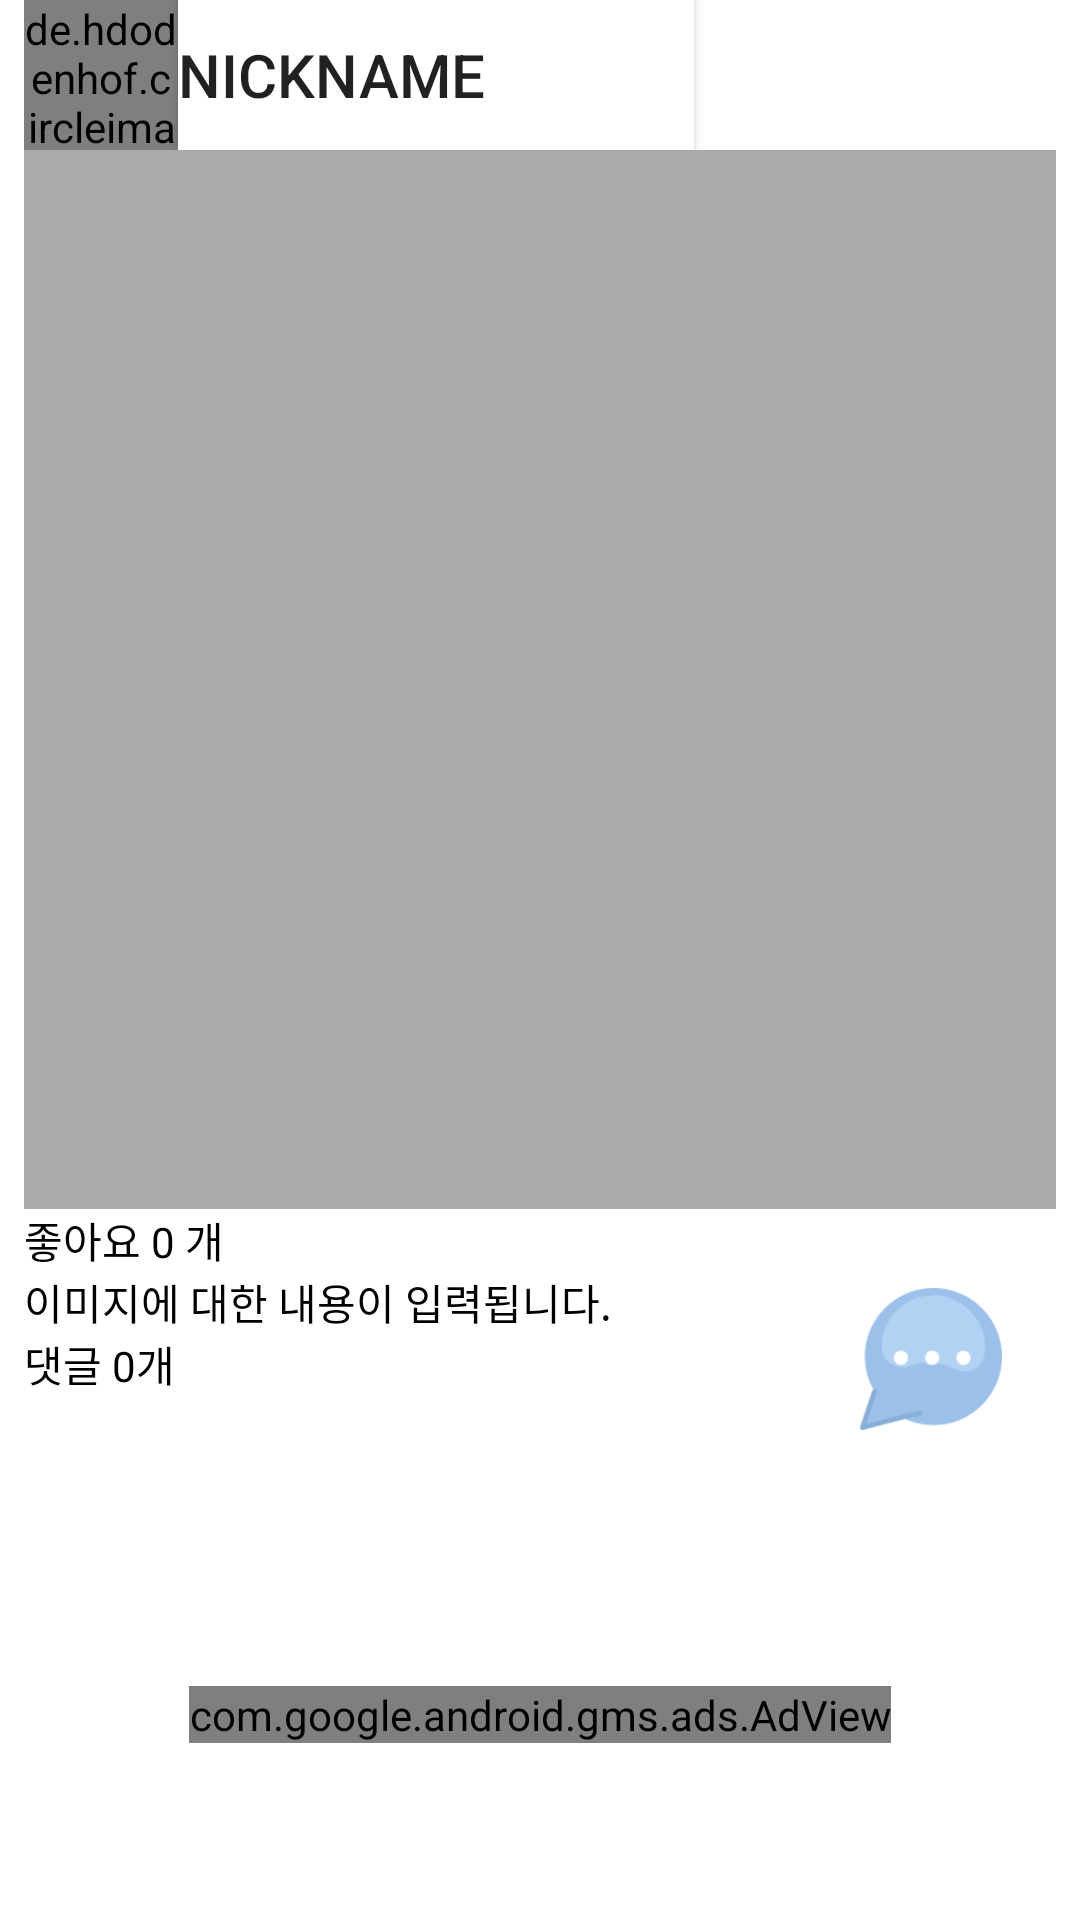

Named icons in this screenshot (1080 × 1920) and their centers, (x=x, y=y):
chat: (x=931, y=1359)
